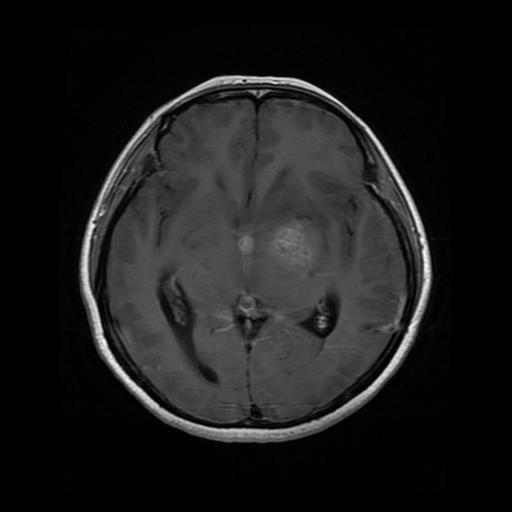Tumour-Glioma: (268, 210, 328, 278)
